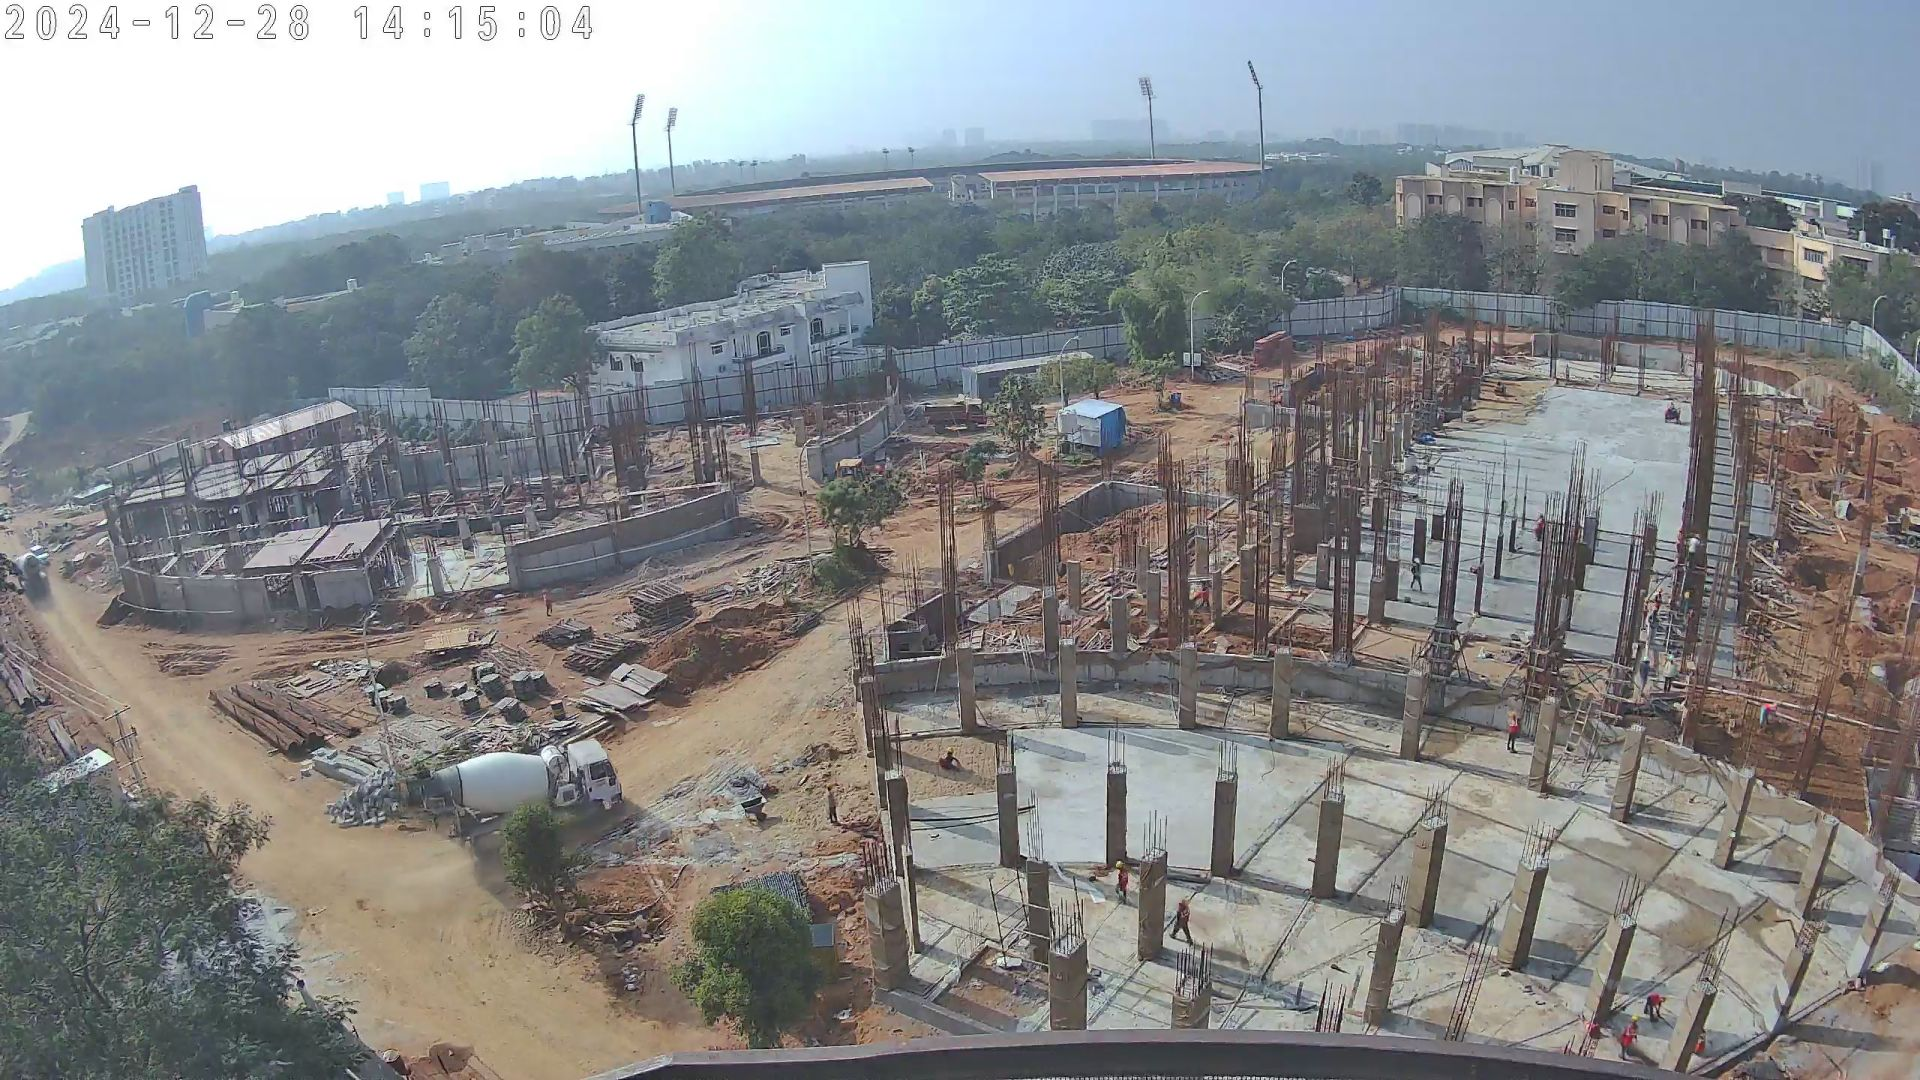bulldozer: (827, 454, 874, 504)
car: (26, 538, 46, 566)
truck: (420, 738, 626, 853), (914, 394, 993, 434), (11, 554, 50, 606)
worker: (1173, 896, 1194, 951), (1407, 557, 1431, 604), (819, 784, 843, 831), (1617, 1016, 1637, 1064), (1756, 700, 1781, 737), (1114, 857, 1131, 911), (1647, 590, 1663, 647), (1663, 653, 1684, 694), (1636, 654, 1651, 700), (1529, 514, 1549, 547), (1689, 528, 1704, 572), (1647, 986, 1663, 1026), (937, 747, 960, 774), (1192, 577, 1207, 616), (1506, 713, 1520, 751), (541, 589, 556, 619)
